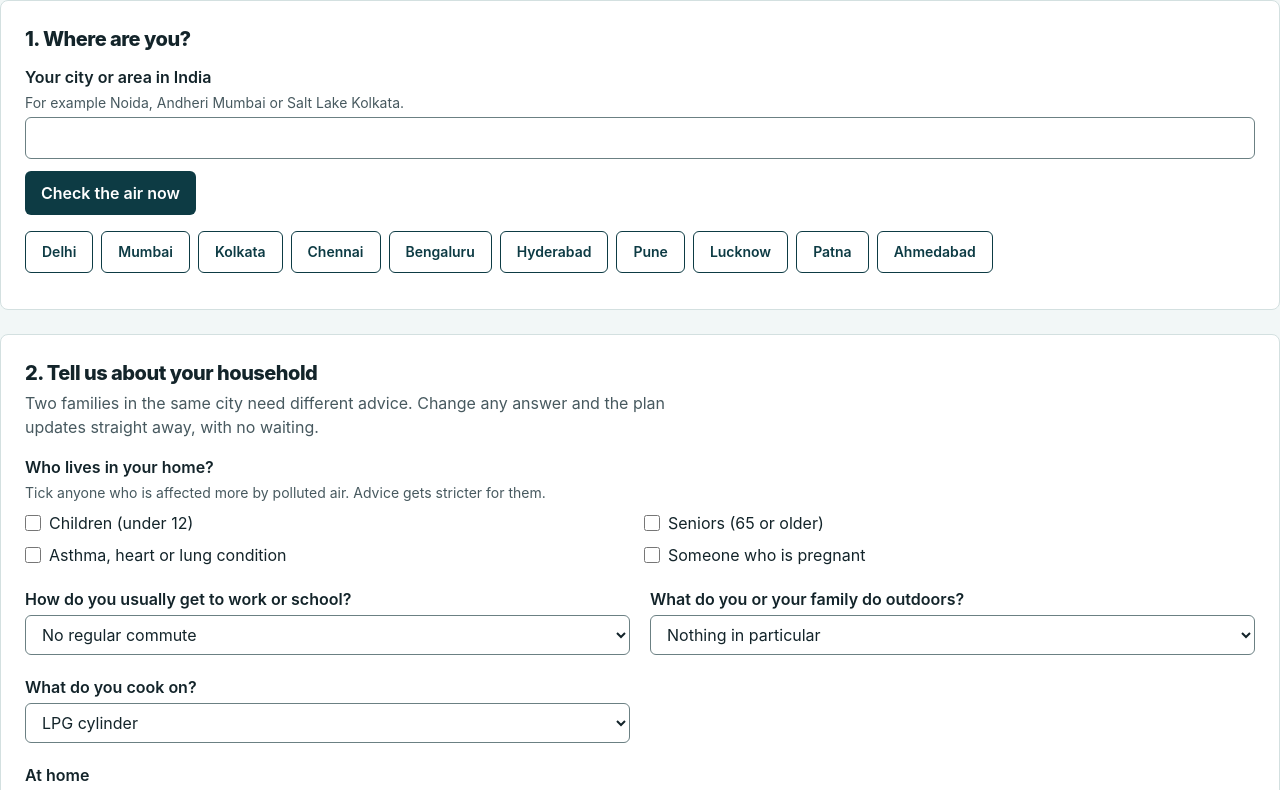
Scenario: checking the air › shows the server's explanation when a place is not found
Click the button "Delhi". click: (59, 252)
box: [25,231,93,273]
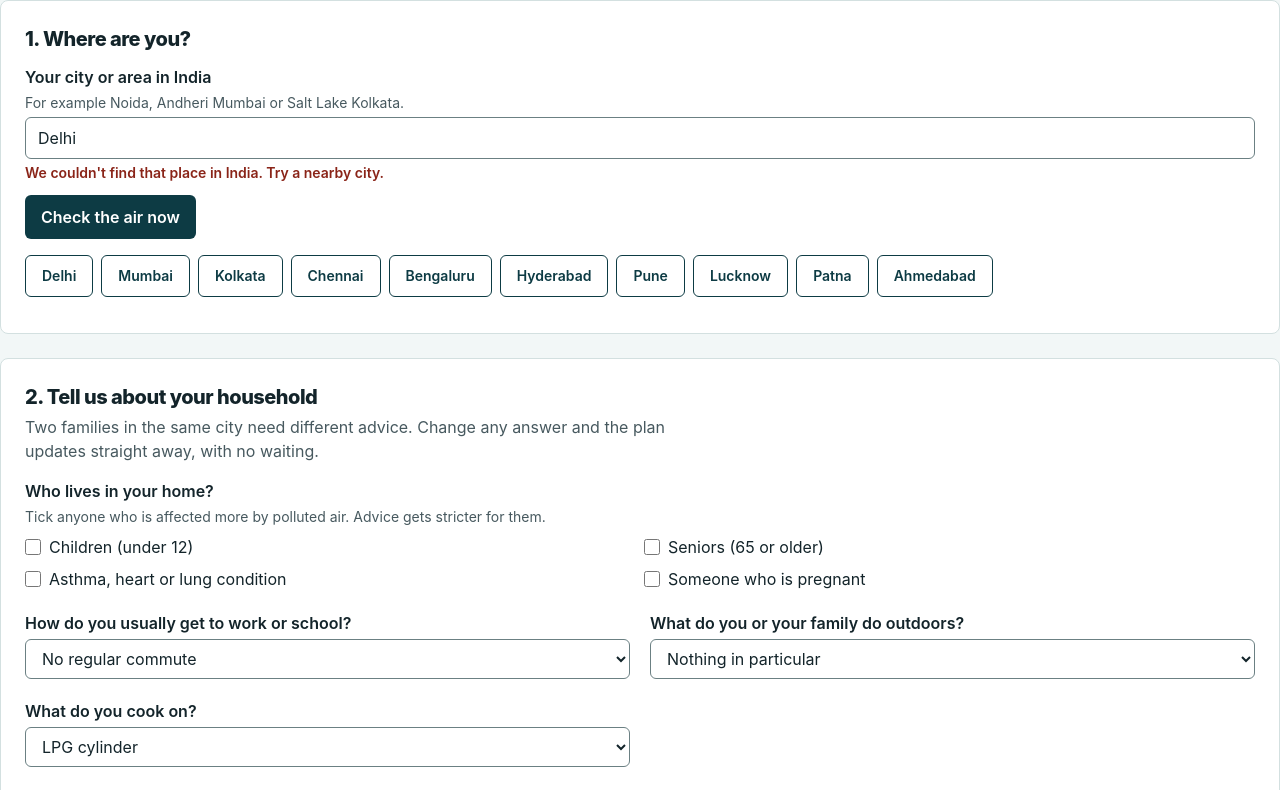
Check: the text "We couldn't find that place in India. Try a nearby city." is shown, box [25,164,384,181]
